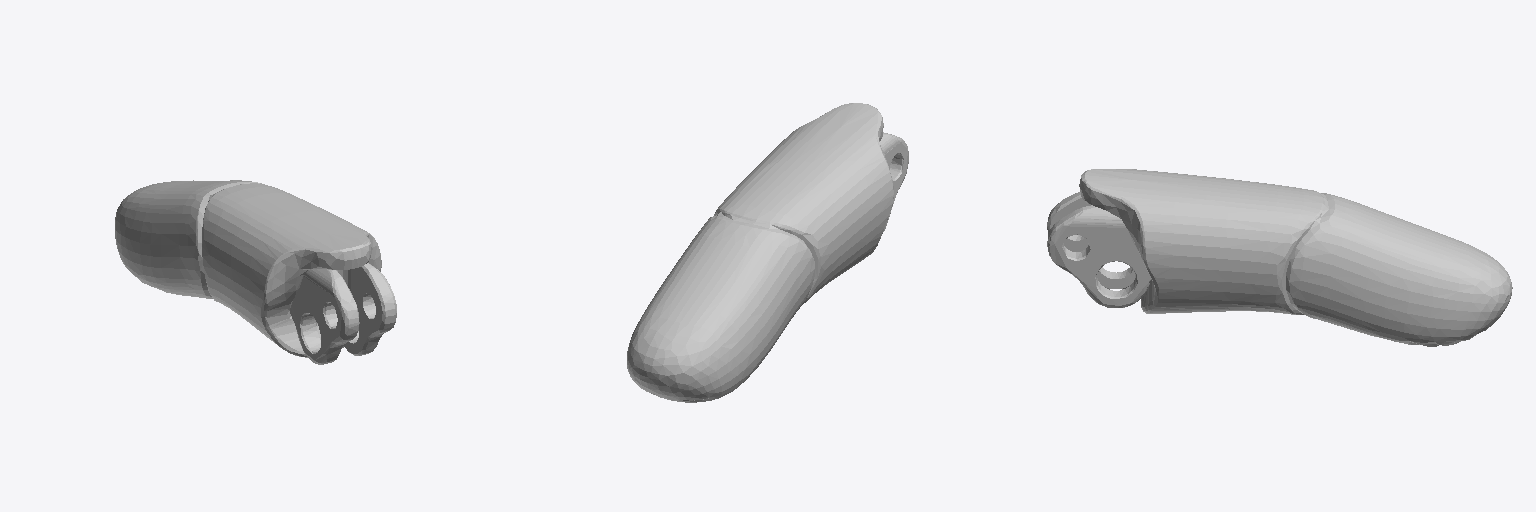
File: L_index_distal.obj
The picture shows the model from 3 angles: view 1: azimuth 30°, elevation 25°; view 2: azimuth 150°, elevation 25°; view 3: azimuth 270°, elevation 25°; orthographic projection.
Parts seen in each view (by area): view 1: L_index_distal; view 2: L_index_distal; view 3: L_index_distal.
Part boxes in pixels (x1,y1,x2,y2): L_index_distal: (115, 180, 396, 364); L_index_distal: (627, 103, 908, 402); L_index_distal: (1047, 169, 1512, 346).
Size of the model in its own units: 0.0152 by 0.0199 by 0.0521.